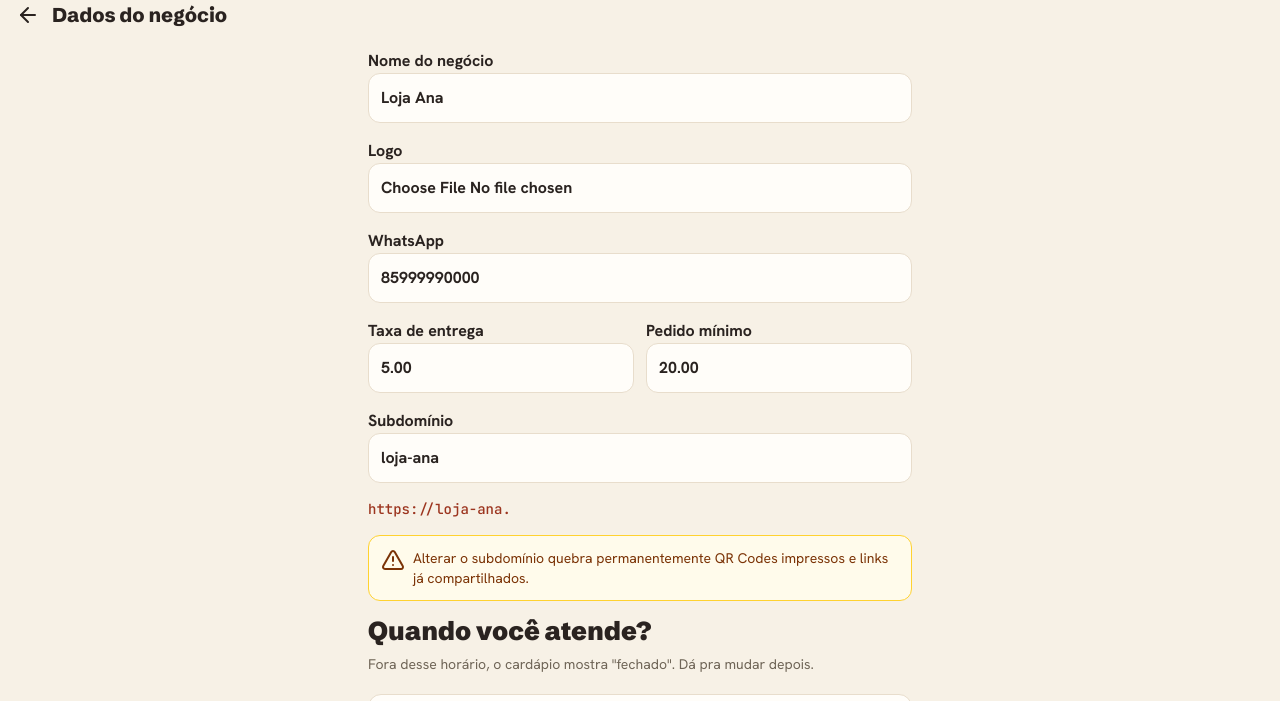
Test: BusinessSettingsScreen › preserves edits after failure, releases the lock, and permits retry
This screenshot has width=1280, height=701.
Replace the text in the field labelled "Nome do negócio" with "Novo Nome" at point(640, 98), box [368,73,912,123]
(page scrolled)
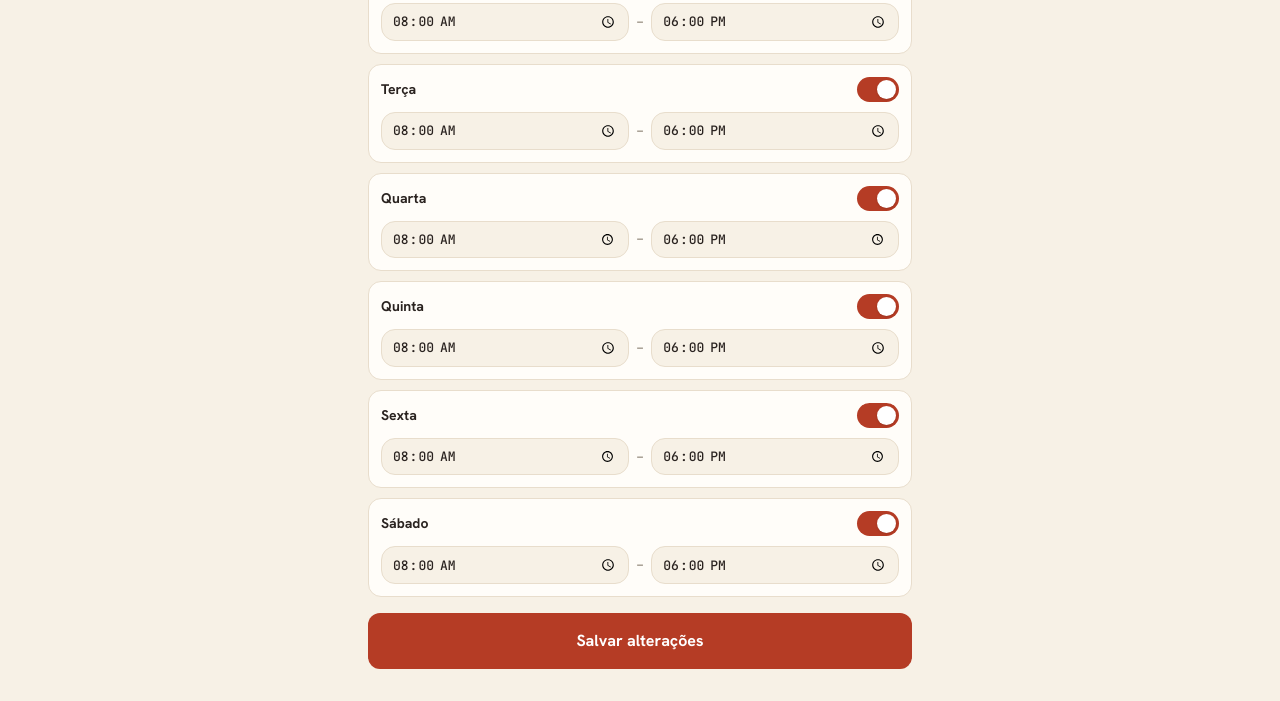
Click the button "Salvar alterações".
click(640, 641)  # box [368,613,912,669]
(page scrolled)
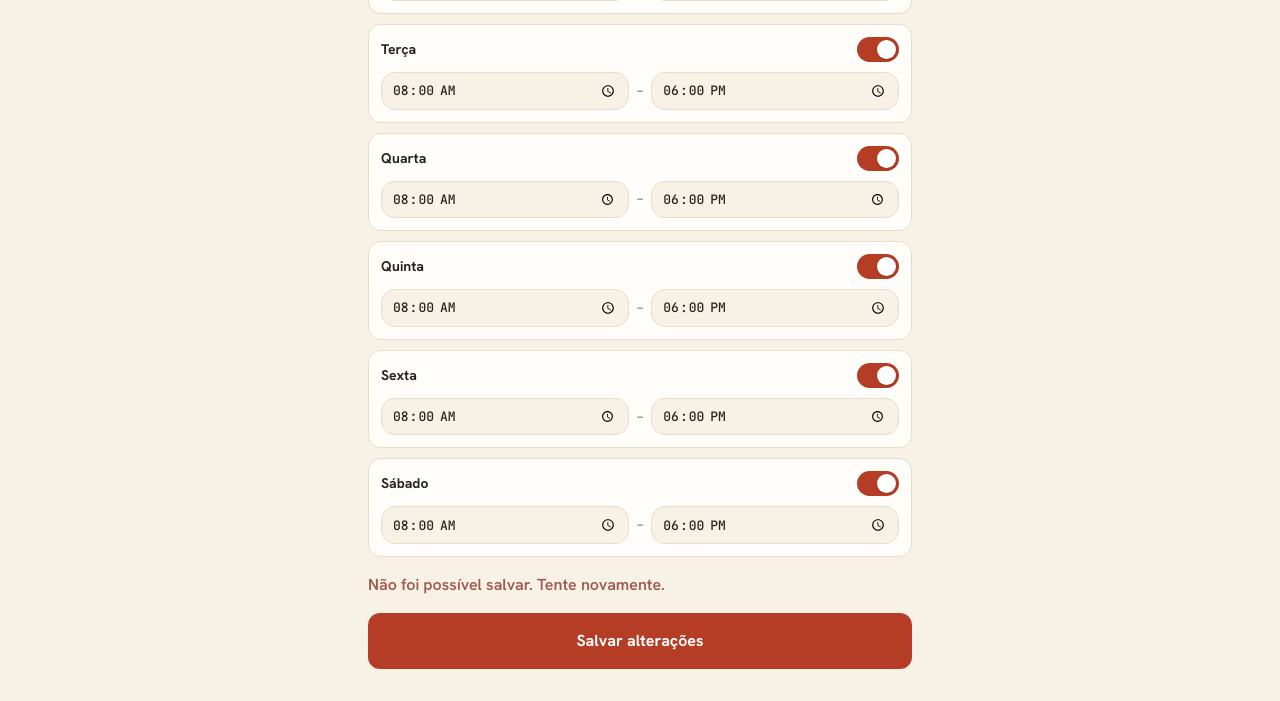
Now the text "Não foi possível salvar. Tente novamente." is shown, box [368,574,665,595]
Click the button "Salvar alterações".
click(640, 641)  # box [368,613,912,669]
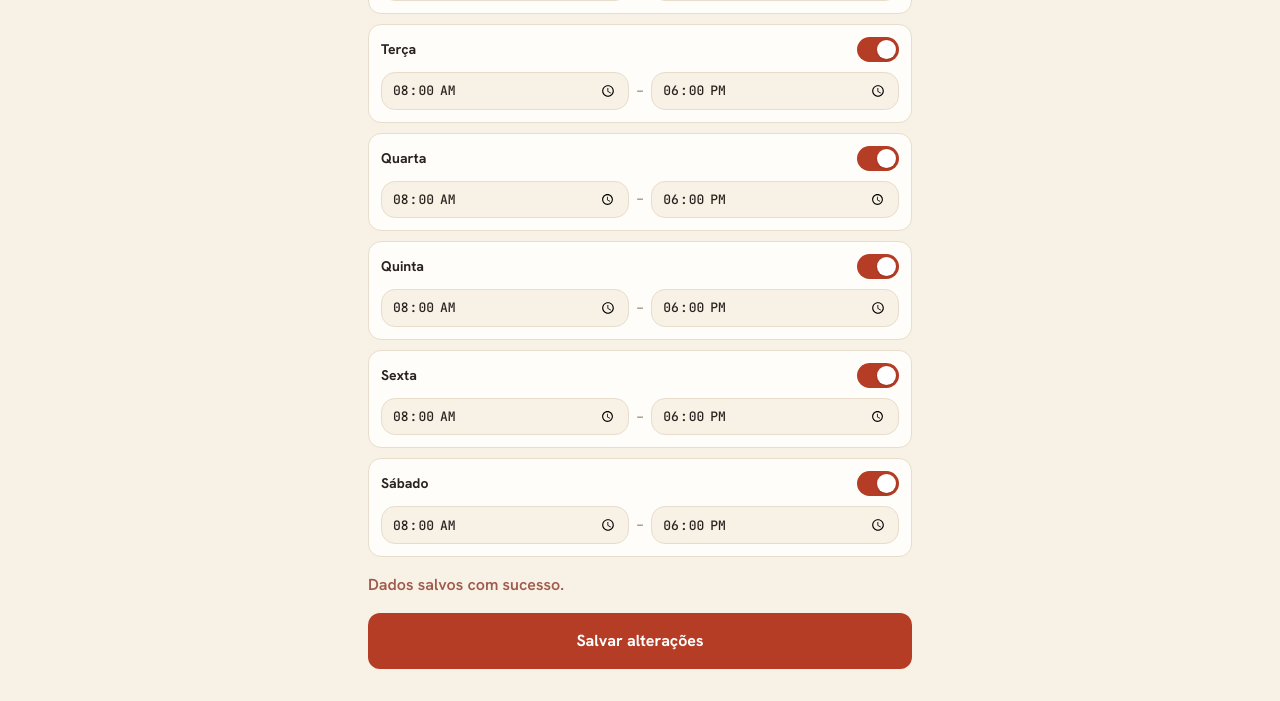
Now the text "Dados salvos com sucesso." is shown, box [368,574,564,595]
